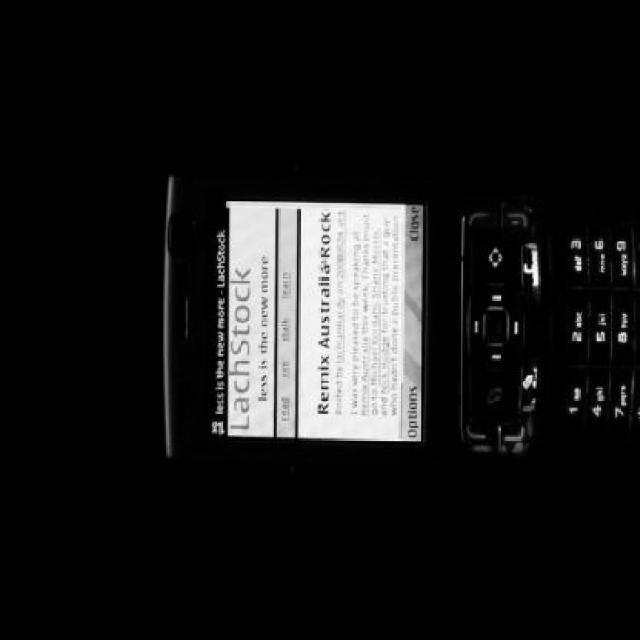fake: (175, 184, 597, 474)
